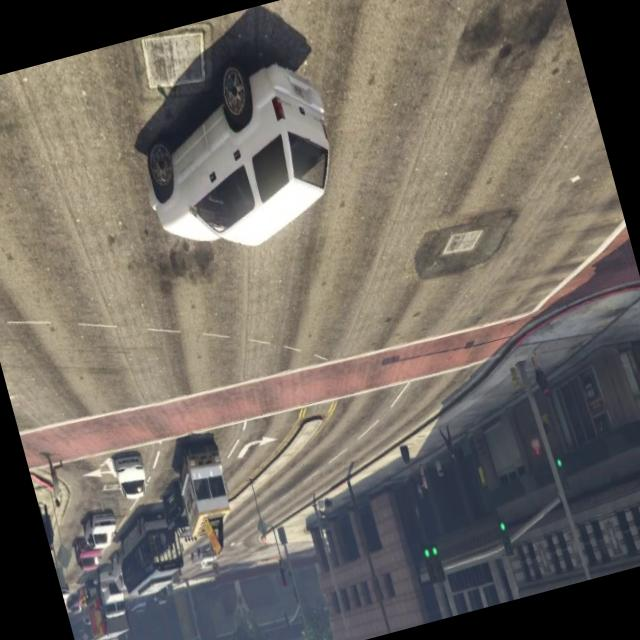Green-Signal: (413, 530, 455, 593), (492, 510, 520, 564), (550, 447, 576, 498)
